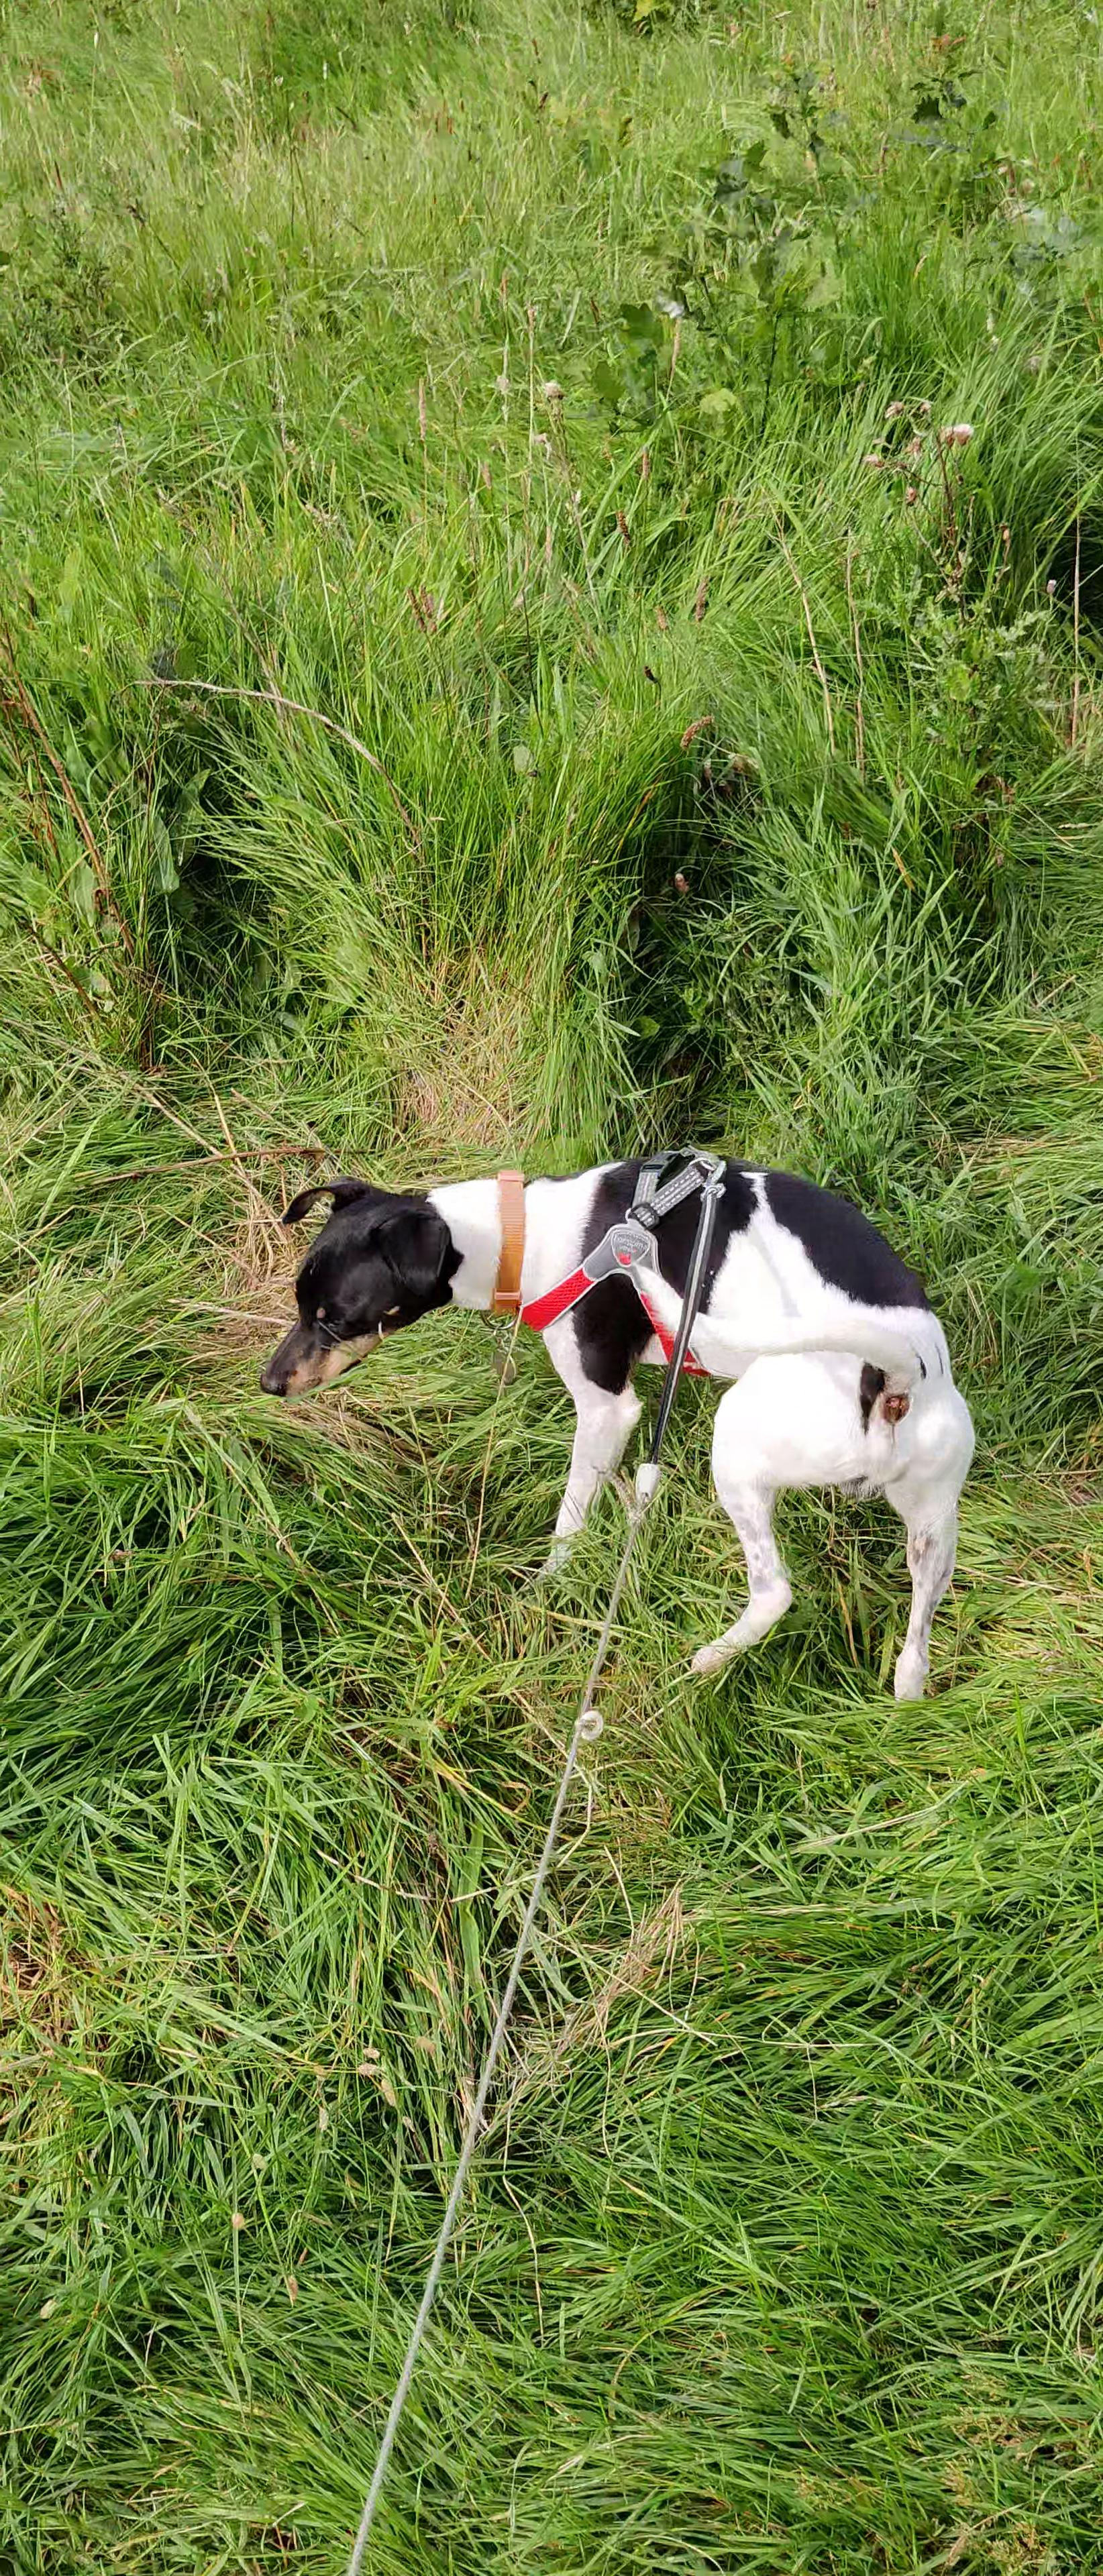Dog: (258, 1106, 988, 1720)
